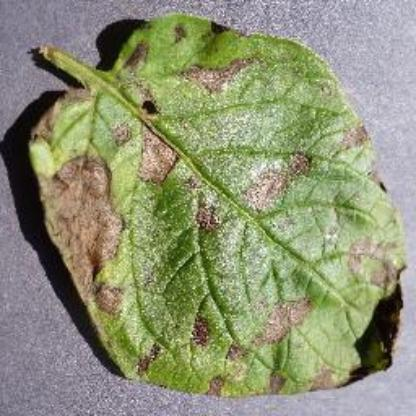Early-Blight: (21, 13, 403, 399)
